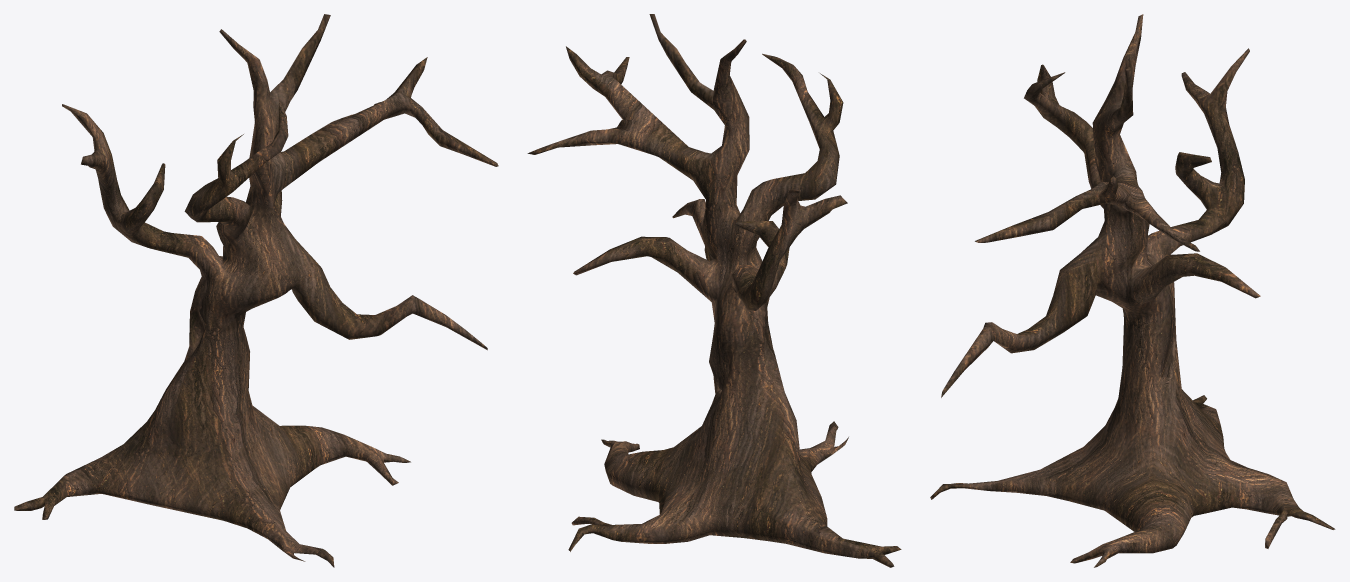
File: dry_tree_vurvur_house_5.glb
The picture shows the model from 3 angles, left to right: view 1: azimuth 30°, elevation 25°; view 2: azimuth 150°, elevation 25°; view 3: azimuth 270°, elevation 25°; orthographic projection. The views are drawn at different scales.
Visible parts, largest first — view 1: arbol.001; view 2: arbol.001; view 3: arbol.001.
Part boxes in pixels (<box>): arbol.001: <box>14,14,498,567</box>; arbol.001: <box>527,14,901,567</box>; arbol.001: <box>930,14,1335,567</box>.
Bounding box in the file's own units: 1.48 × 1.76 × 1.35.
Materials: 1 (1 with a texture image).
